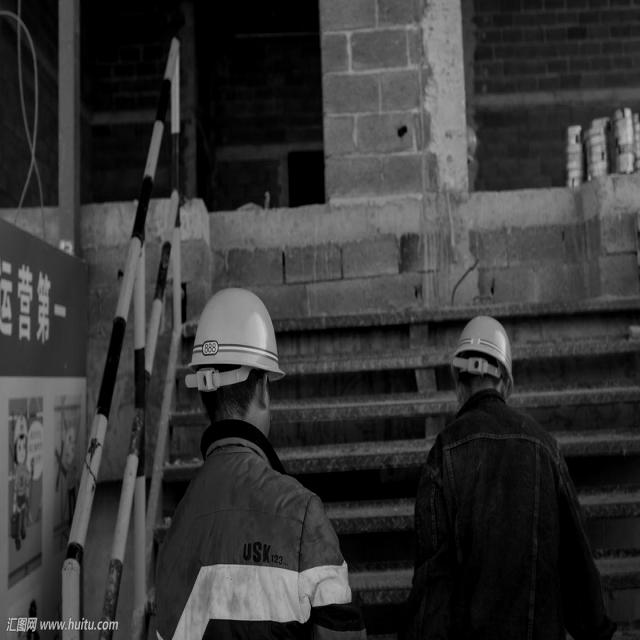head_helmet: (188, 285, 284, 379), (450, 316, 524, 387)
person: (142, 286, 349, 637), (418, 314, 574, 640)
